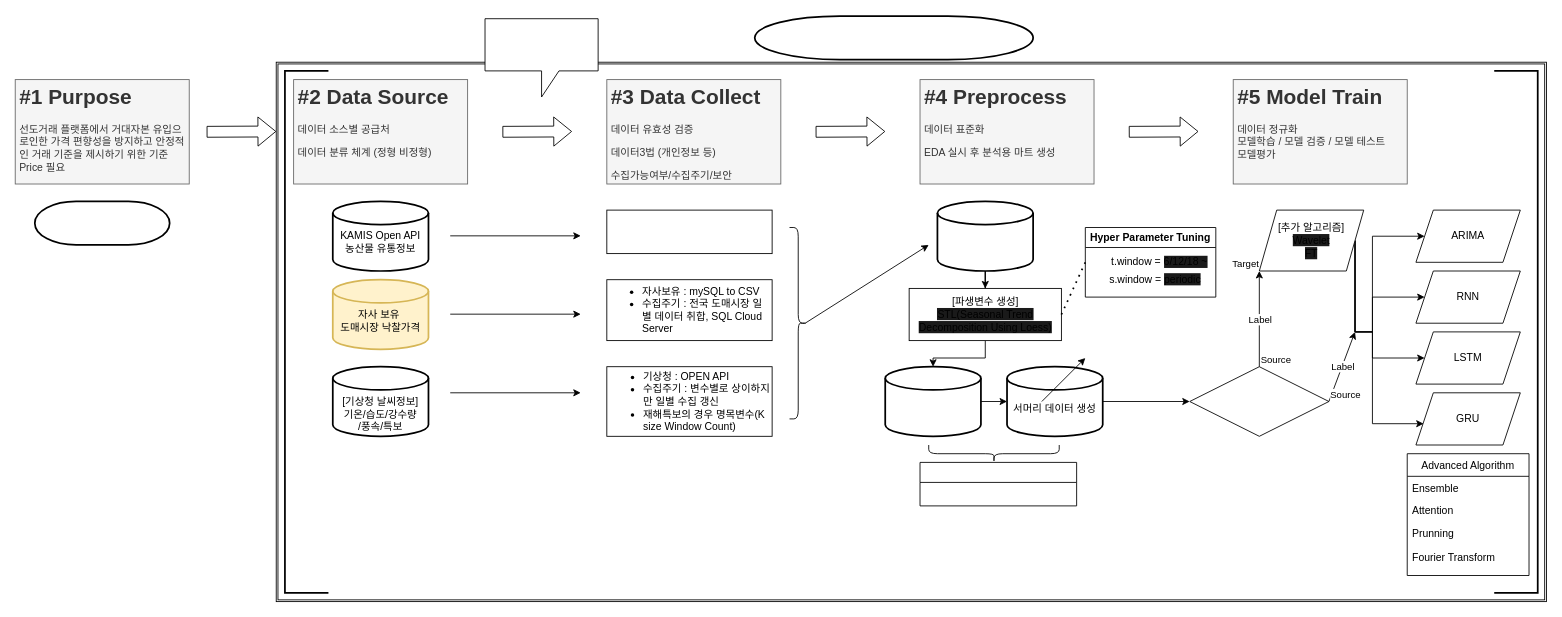
Some shapes in this 1562 by 617 pixel diagram are drawn without their labels. Each missing label, with the centre of its shape:
"Agricultural Product Price Prediction Model" goes at pixel 893 37.
"KAMIS : OPEN API 수집주기 : 매일 아침 일별 데이터 갱신 자동화" goes at pixel 689 231.
"mySQL (Workbench)" goes at pixel 993 453.
"Price Prediction" goes at pixel 101 222.
"Test Data 수집 후 분석 완료 적합 판단" goes at pixel 541 57.
"데이터 가공 데이터 전처리" goes at pixel 985 235.
"분석용 마트 구성" goes at pixel 932 401.
"자사 CLOUD DB 구성" goes at pixel 998 484.
"품목 특성 고려" goes at pixel 1259 401.
